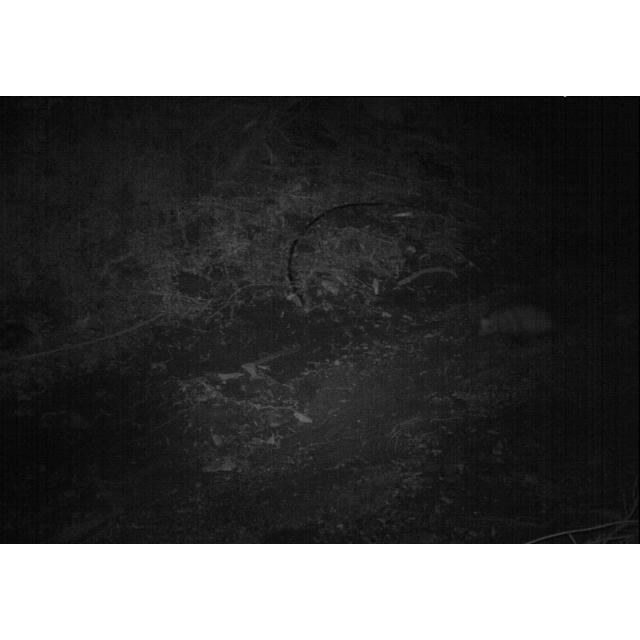animals: (476, 304, 562, 346)
